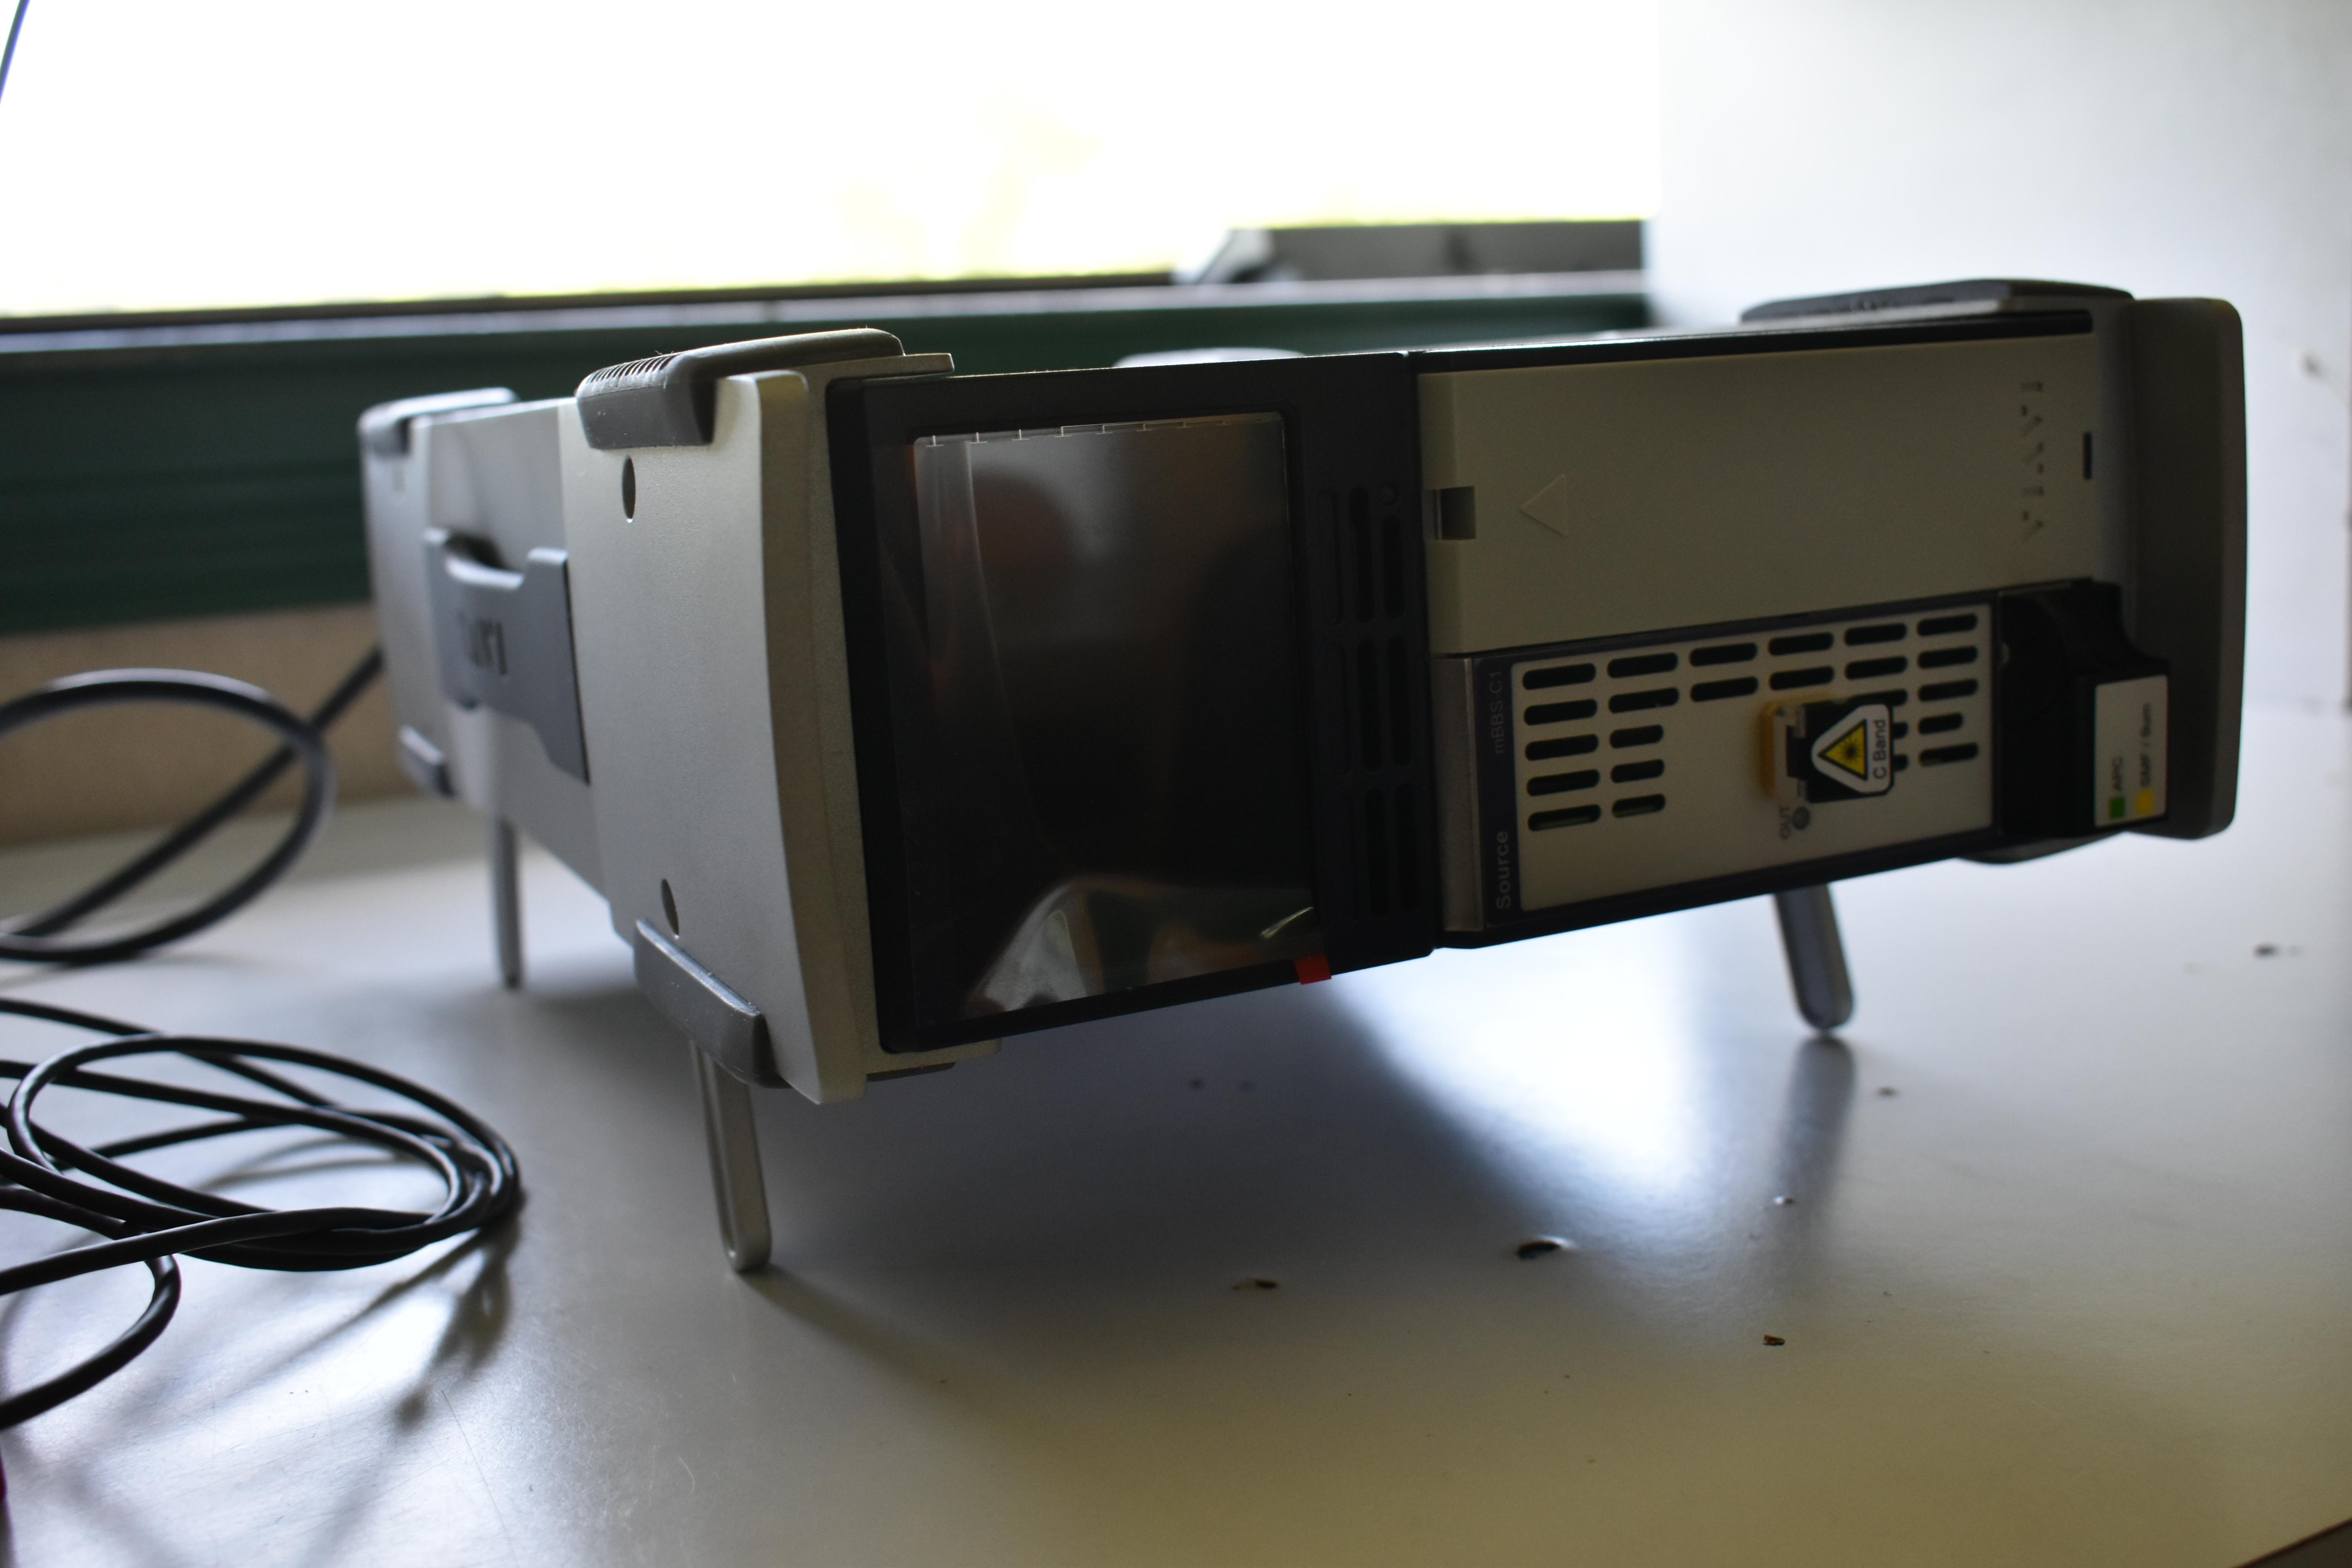laser: (354, 282, 2257, 1281)
